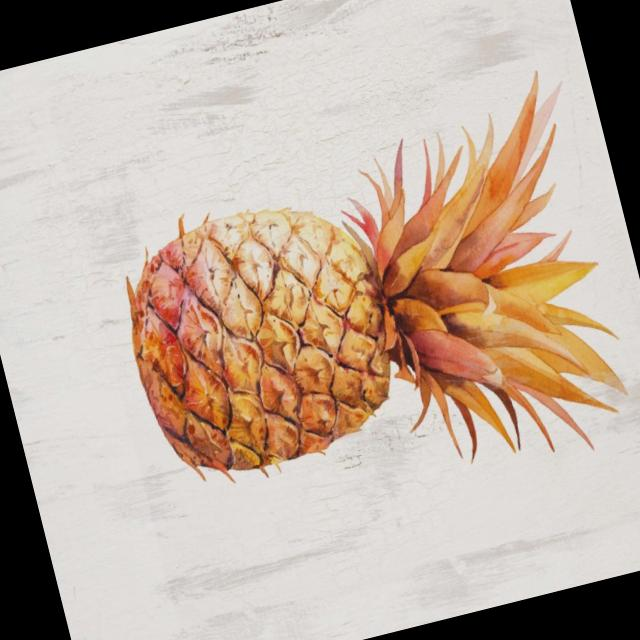pineapple: (95, 132, 496, 504)
